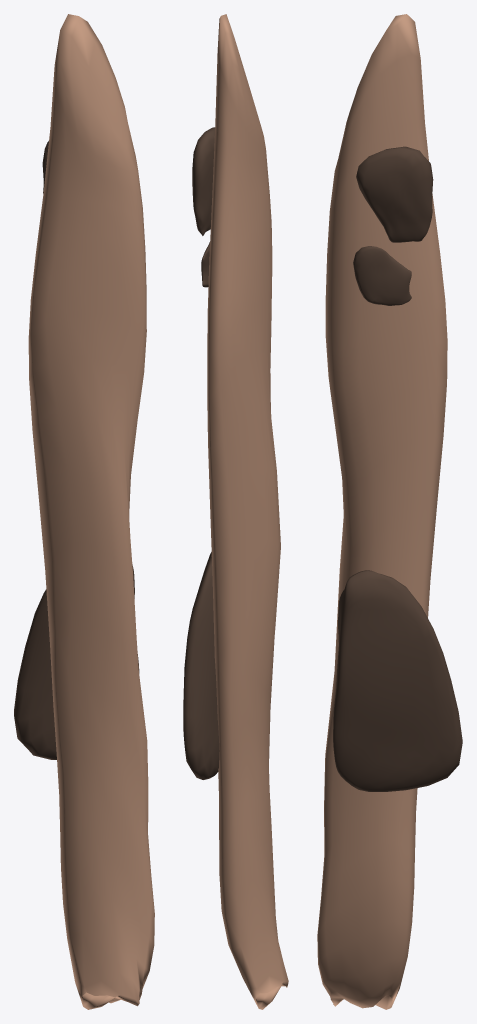
Rendered from obs_vertical_01.fbx.
3 views of the same model, side by side, from view 1: azimuth 90°, elevation 25°; view 2: azimuth 150°, elevation 25°; view 3: azimuth 270°, elevation 25° (orthographic). The views are drawn at different scales.
Parts seen in each view (by area): view 1: vertical; view 2: vertical; view 3: vertical.
Part boxes in pixels (x1=…): vertical: x1=14, y1=14, x2=154, y2=1009; vertical: x1=183, y1=14, x2=288, y2=1009; vertical: x1=317, y1=14, x2=462, y2=1009.
Size of the model in its own units: 0.3053 by 4.11 by 0.5344.
